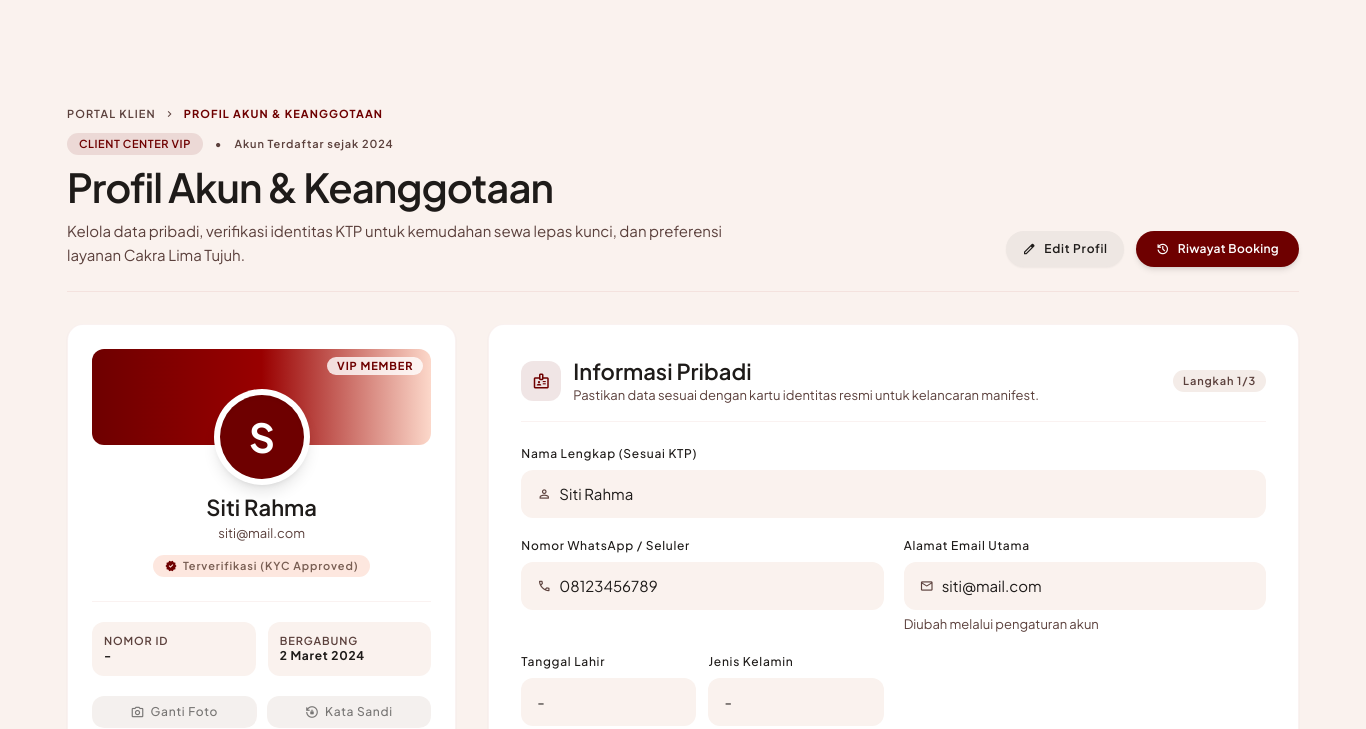
Test: save writes every writable field and never email
The image size is (1366, 729).
Click the button "Edit Profil" at x=1065, y=249, box [1006,231,1124,267]
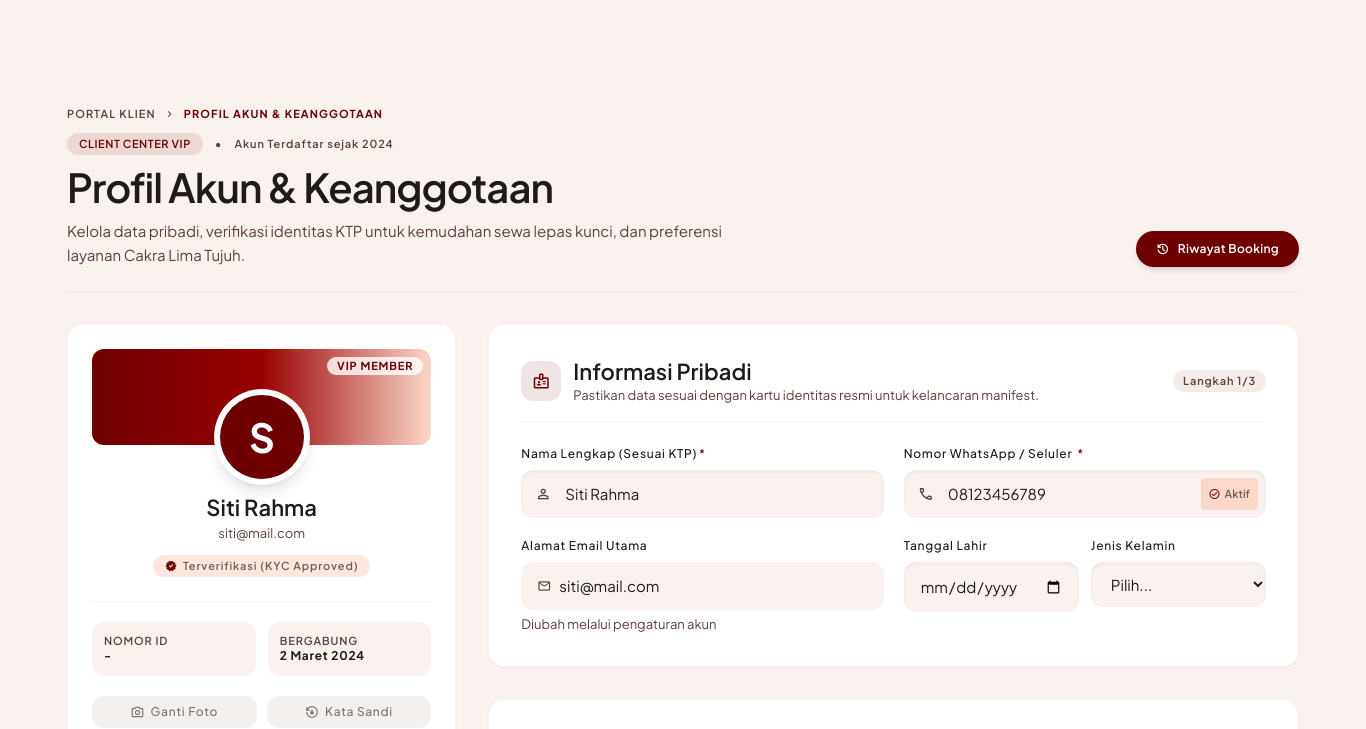
Replace the text in the field with placeholder "Nama Sesuai KTP" below "Nama Lengkap (Sesuai KTP)" with "Siti Rahma A." at x=702, y=494, box [521,470,884,518]
(page scrolled)
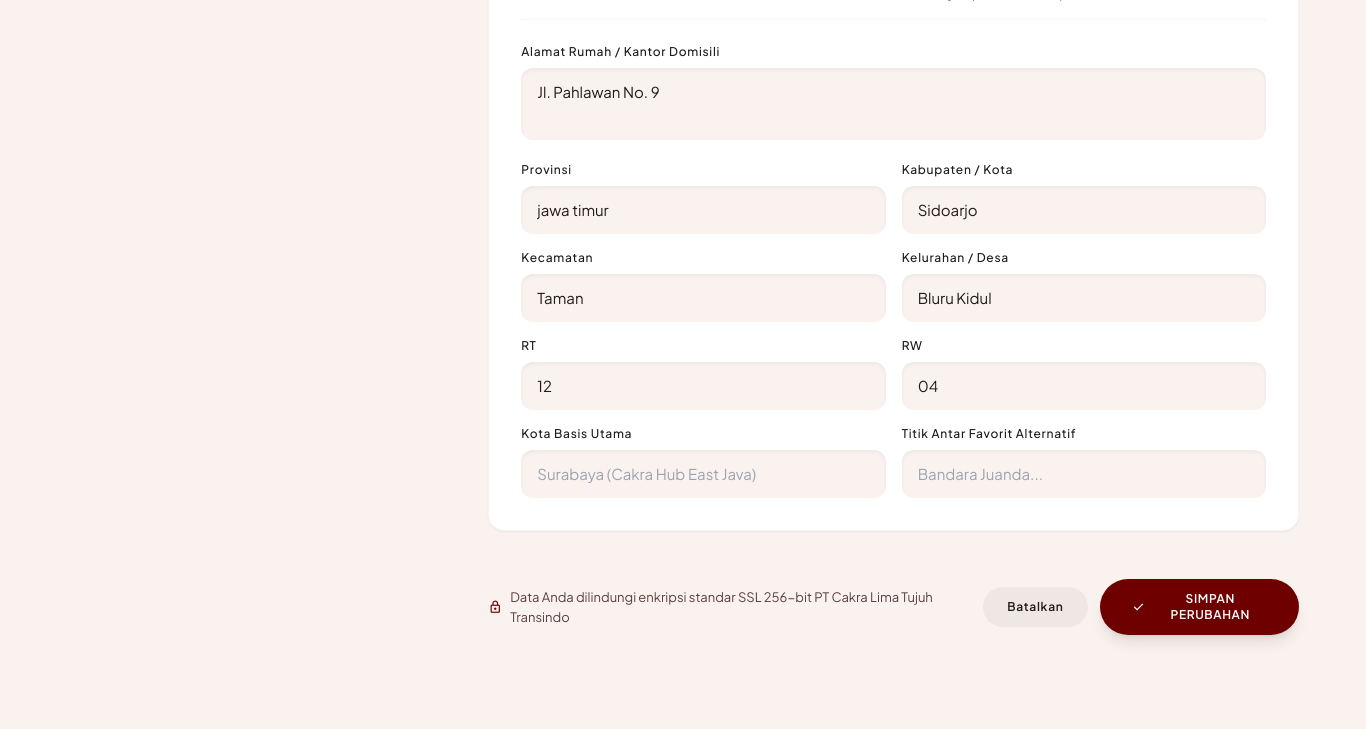
Click the button "Simpan Perubahan" at x=1199, y=607, box [1100,579,1299,635]
(page scrolled)
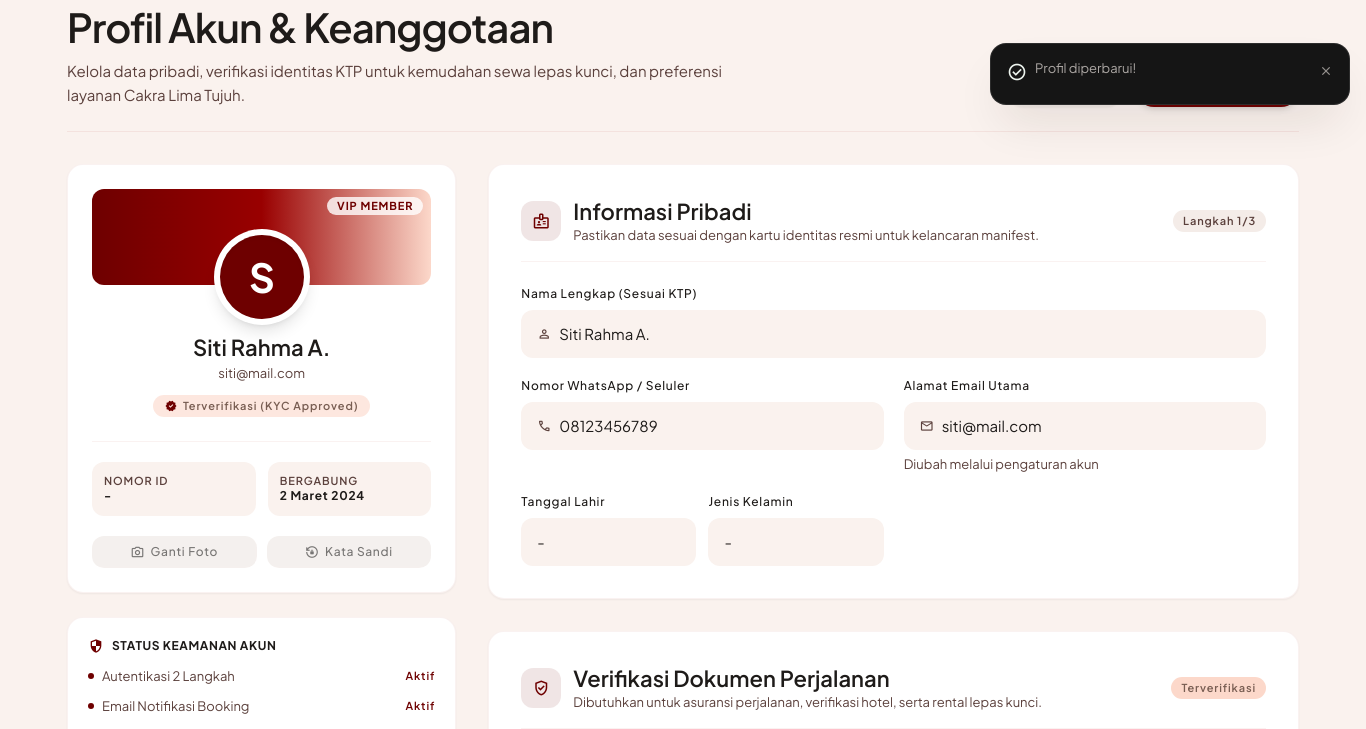
Expected: the heading "Siti Rahma A." is shown, [193,333,330,361]
